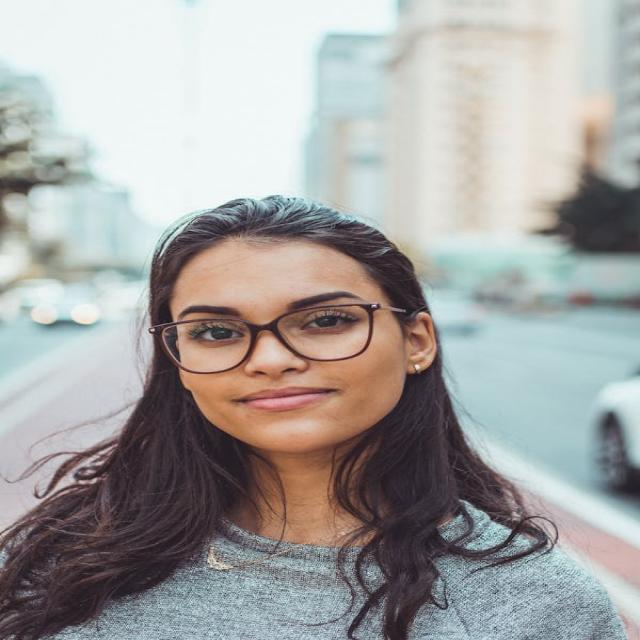no_mask: (146, 236, 436, 489)
